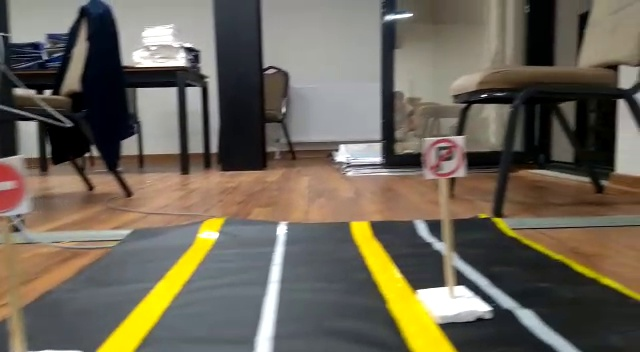girisi_olmayan_yol: (2, 159, 25, 215)
park_yapilmaz: (422, 135, 468, 180)
